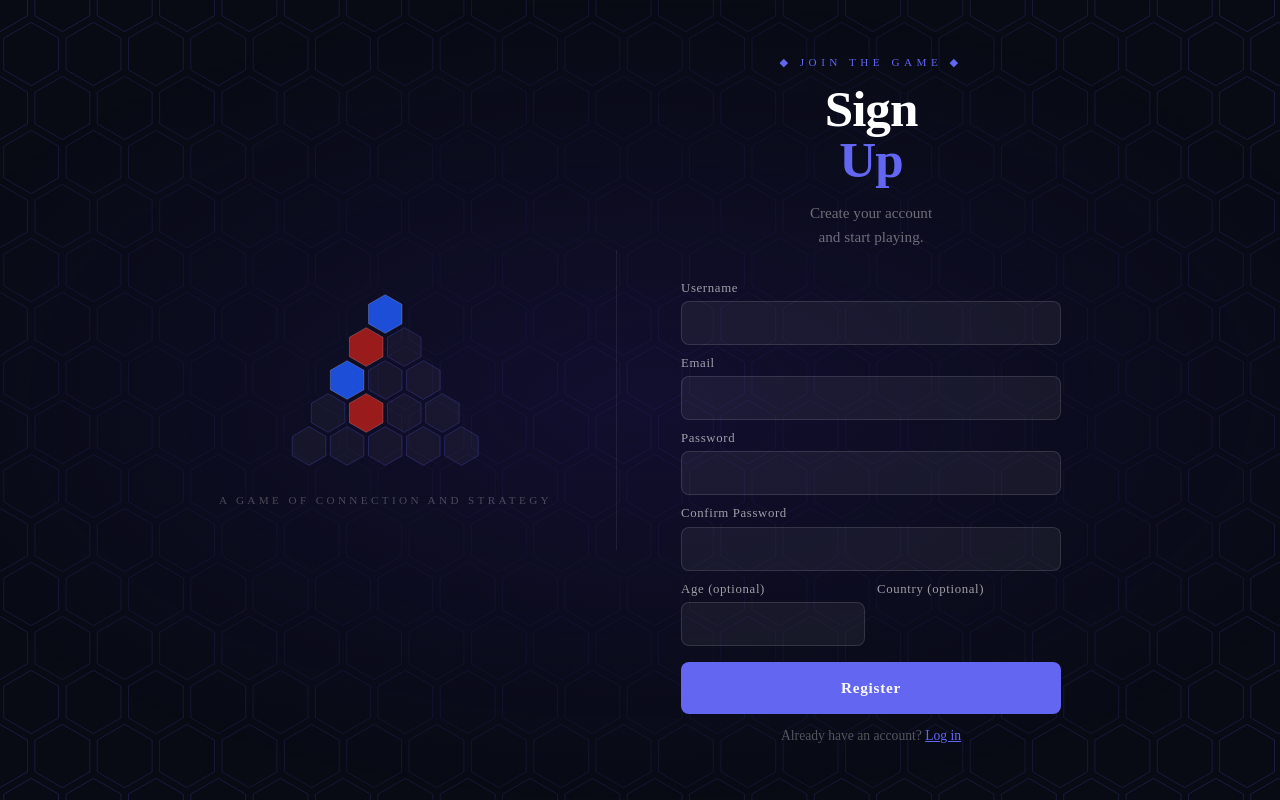
Test: RegisterForm › shows error when passwords do not match
Step 1. Type "Pablo" into the field labelled "Username" → {"x": 871, "y": 323}, box [681,301,1061,345]
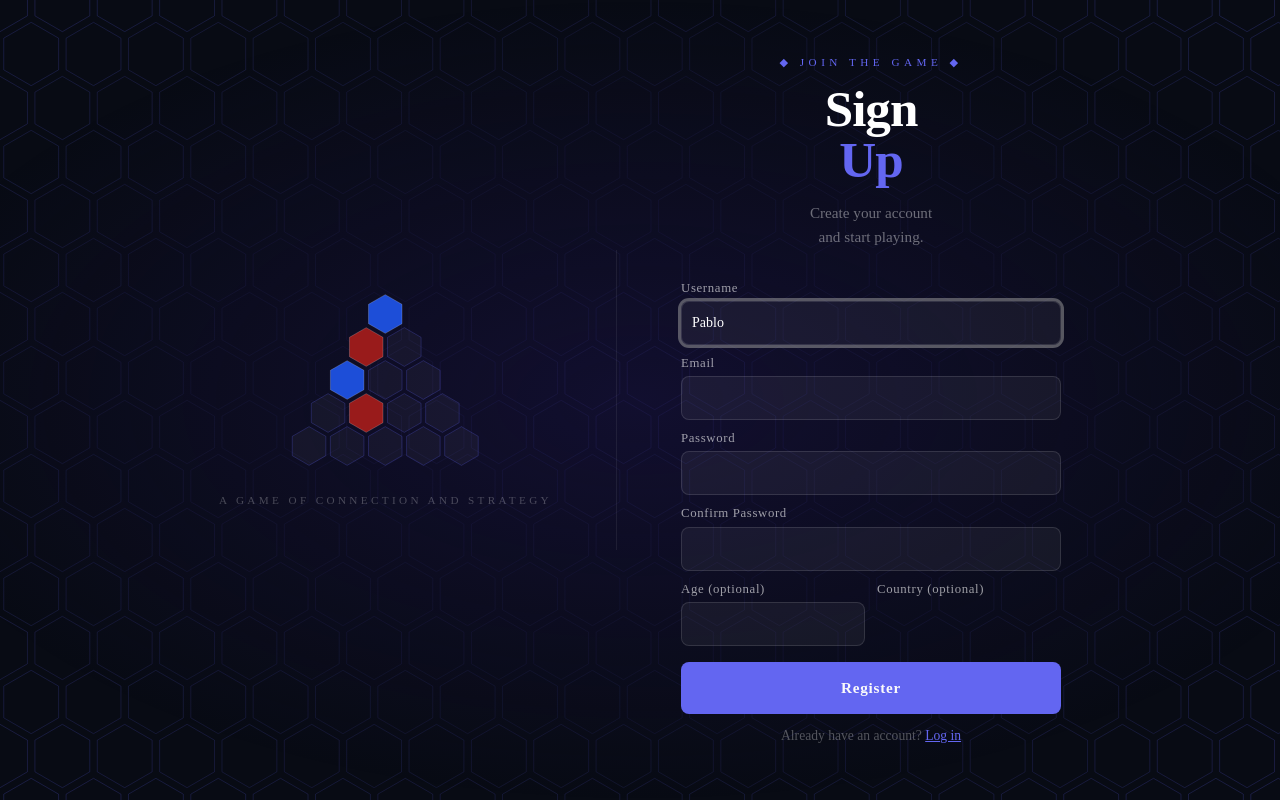
Step 2. Type "pablo@test.com" into the field labelled "Email" → {"x": 871, "y": 398}, box [681,376,1061,420]
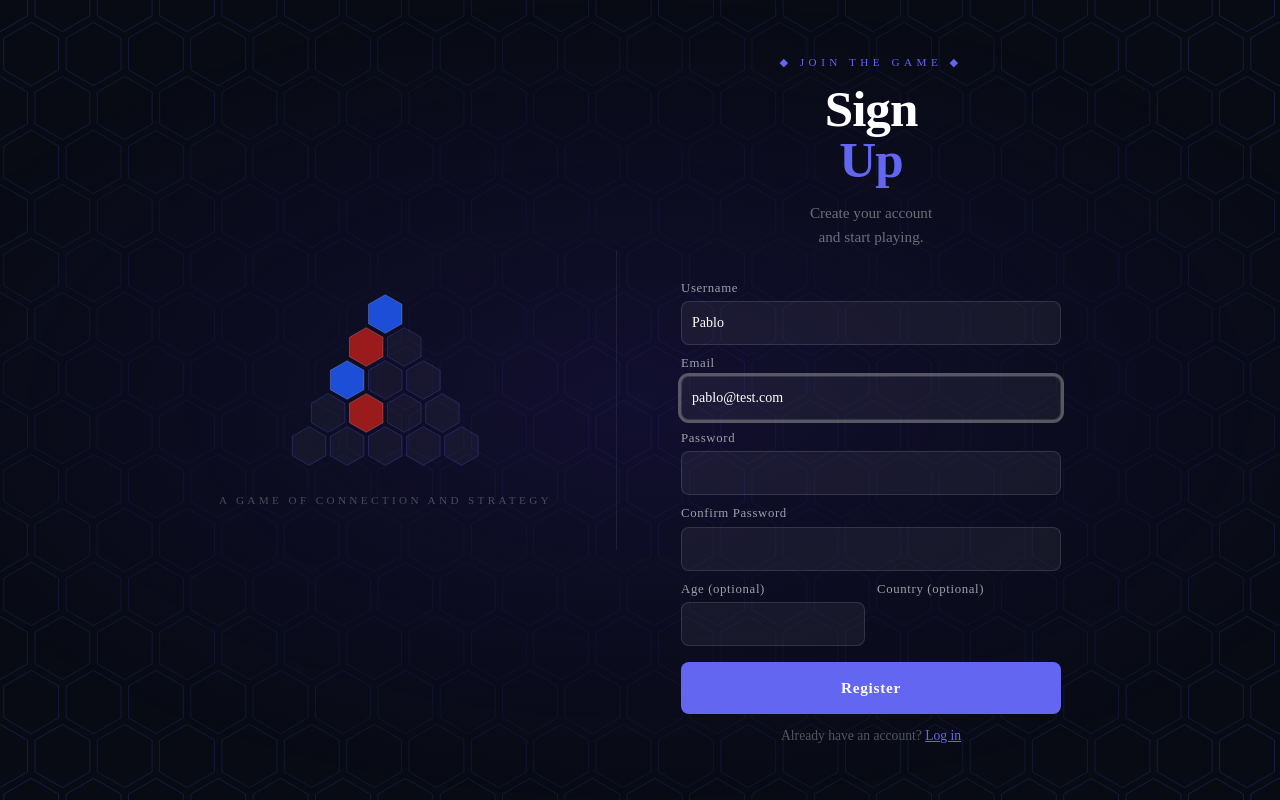
Step 3. Type "secret123" into the password field labelled "Password" → {"x": 871, "y": 473}, box [681,451,1061,495]
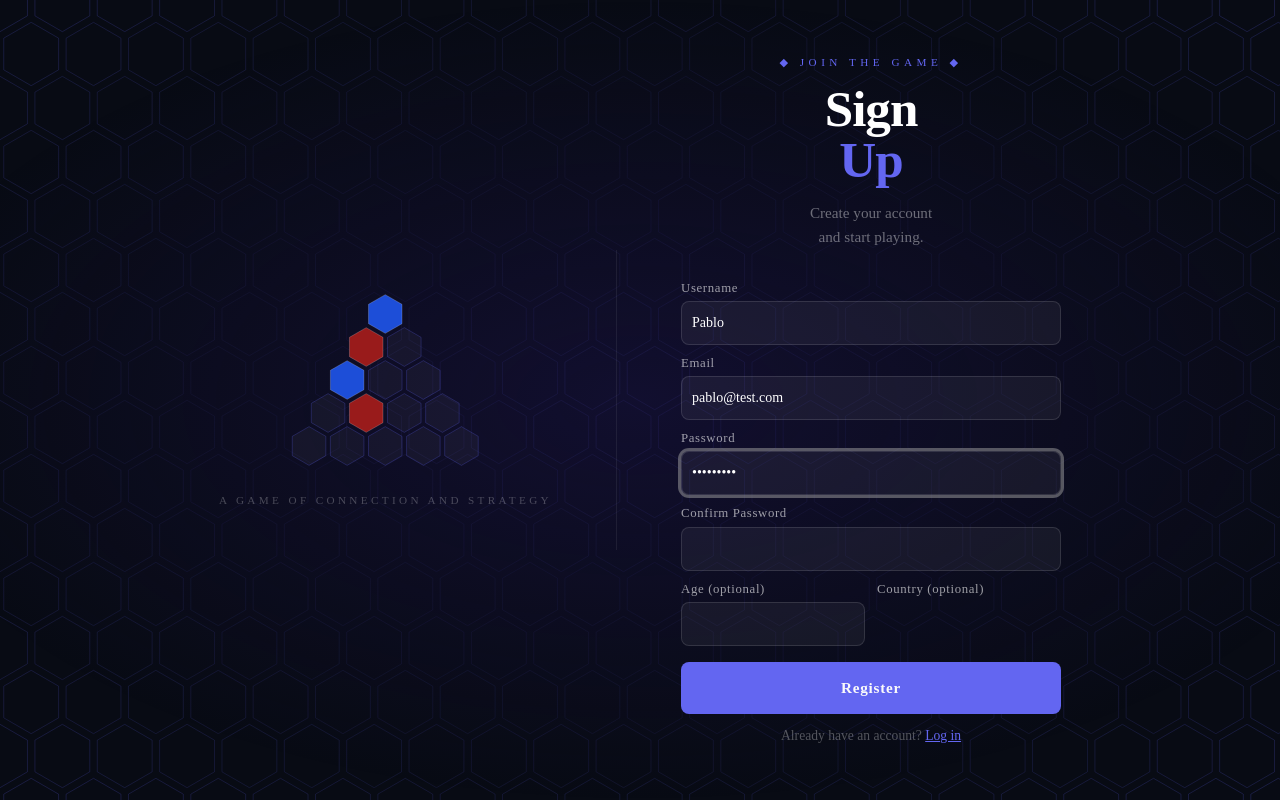
Step 4. Type "different123" into the password field labelled "Confirm Password" → {"x": 871, "y": 548}, box [681,526,1061,570]
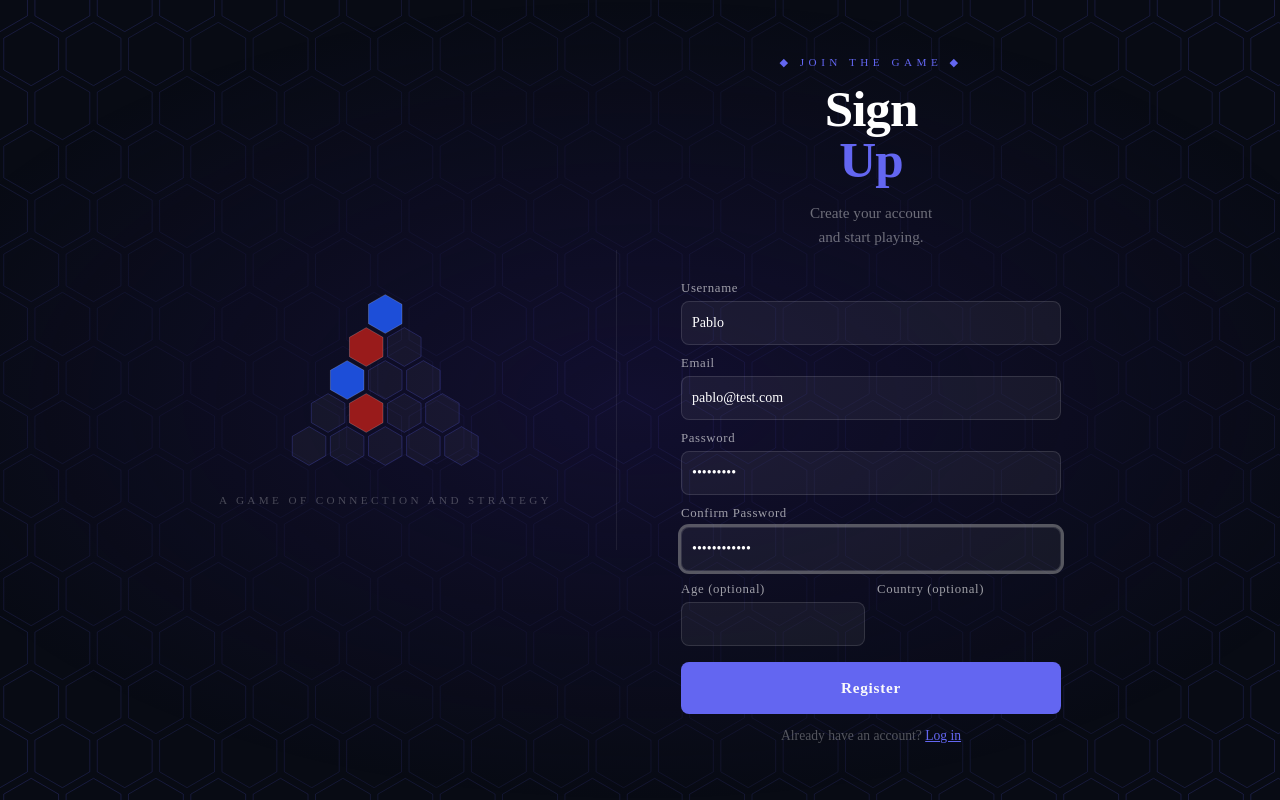
Step 5. Click the button "Register" → {"x": 871, "y": 688}, box [681,662,1061,714]
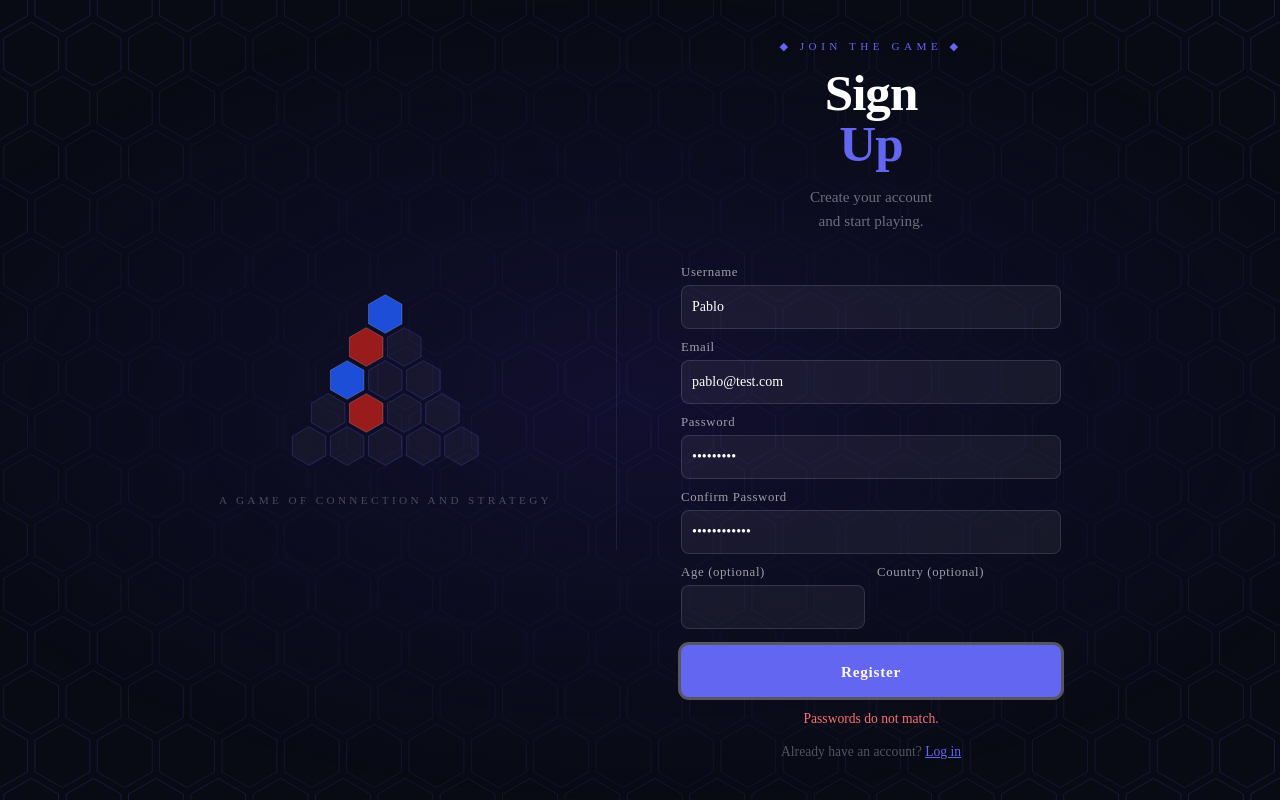
Now the text "Passwords do not match." is shown, box [804,712,939,726]
